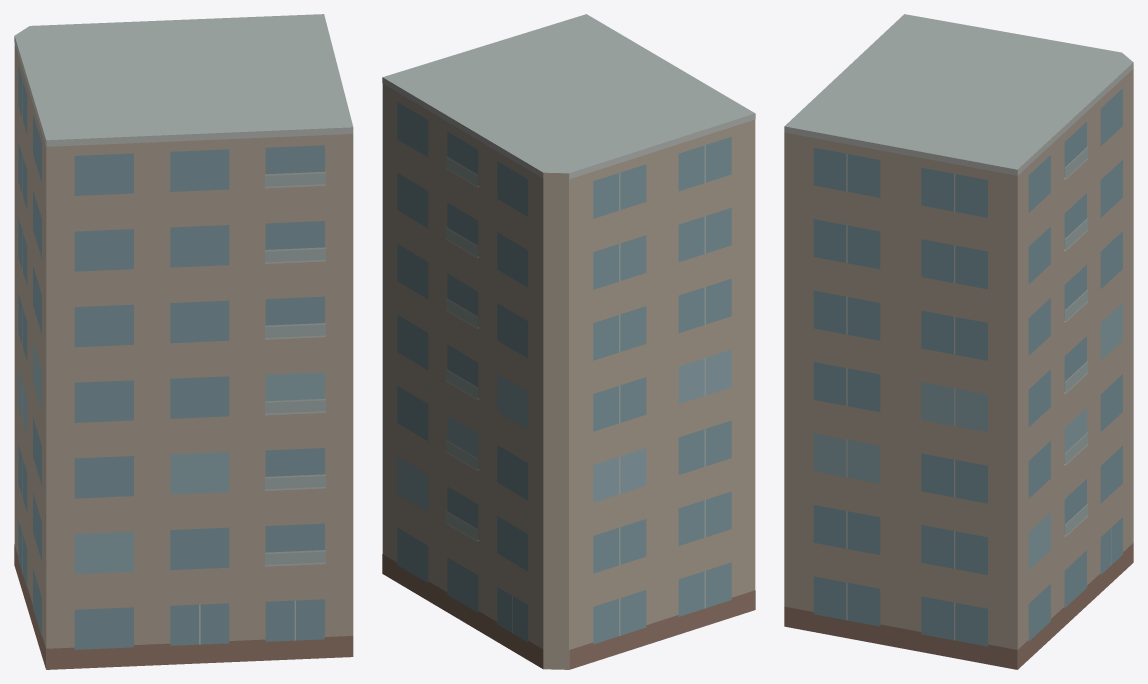
File: survey-upis-32626142.glb
3 renders of one model, left to right at view 1: azimuth 30°, elevation 25°; view 2: azimuth 150°, elevation 25°; view 3: azimuth 270°, elevation 25°, orthographic. The views are drawn at different scales.
Parts seen in each view (by area): view 1: survey-upis-32626142.tmp; view 2: survey-upis-32626142.tmp; view 3: survey-upis-32626142.tmp.
Boxes of the visible parts, box(x1,y1,x2,y2) form: survey-upis-32626142.tmp: box(14, 14, 353, 669); survey-upis-32626142.tmp: box(382, 14, 755, 669); survey-upis-32626142.tmp: box(784, 14, 1133, 669).
Size of the model in its own units: 13.23 by 19.8 by 12.54.
